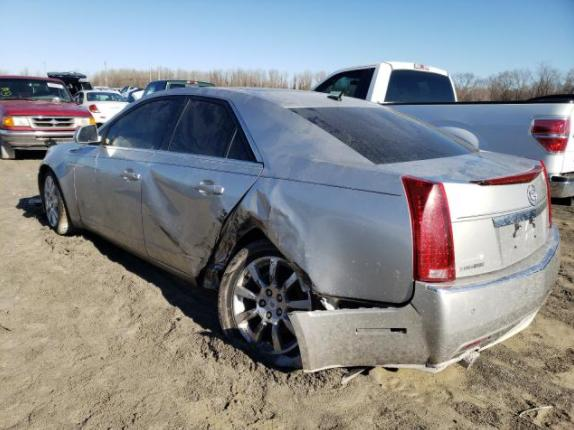Broken part: (287, 222, 562, 372), (216, 240, 340, 372), (195, 174, 277, 292), (290, 260, 318, 295)
Dent: (146, 169, 227, 263), (250, 187, 309, 271)
Missing part: (498, 218, 539, 256)
Paint chip: (152, 206, 228, 270)
